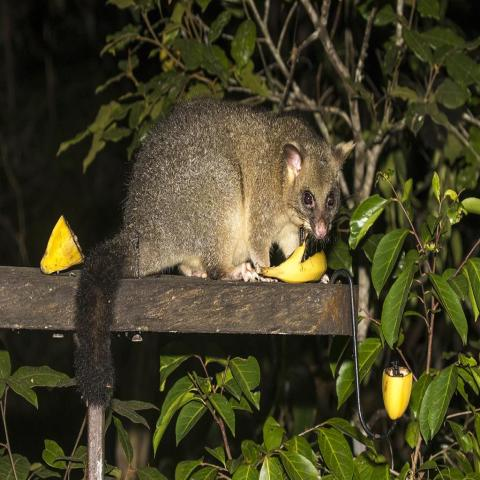small_animal: (74, 94, 356, 406)
